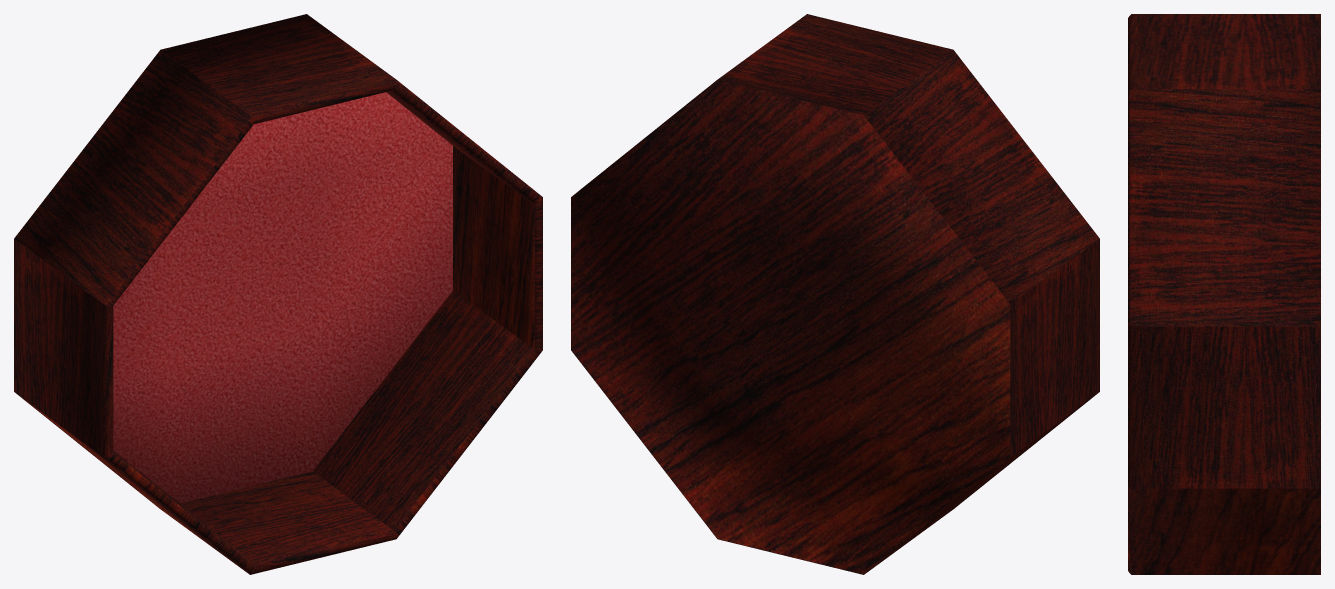
Rendered from piste.glb.
3 views of the same model, side by side, from view 1: azimuth 30°, elevation 25°; view 2: azimuth 150°, elevation 25°; view 3: azimuth 270°, elevation 25° (orthographic). The views are drawn at different scales.
Visible parts, largest first — view 1: base, north_west, south_east, west, north, east, south, south_east001, north_east; view 2: base, north_west, west, north, south_east001; view 3: north_east, east, south_east, north.
Boxes of the visible parts, <box> form: base: <box>113,92,452,503</box>; north_west: <box>14,50,254,306</box>; south_east: <box>313,290,541,537</box>; west: <box>14,239,113,457</box>; north: <box>161,14,396,124</box>; east: <box>453,146,542,350</box>; south: <box>180,471,396,574</box>; south_east001: <box>17,394,254,574</box>; north_east: <box>386,80,542,203</box>; base: <box>571,79,1010,574</box>; north_west: <box>864,50,1099,303</box>; west: <box>1010,239,1099,456</box>; north: <box>718,14,952,115</box>; south_east001: <box>864,394,1096,574</box>; north_east: <box>1128,89,1320,326</box>; east: <box>1128,326,1320,488</box>; south_east: <box>1128,486,1320,574</box>; north: <box>1128,14,1320,91</box>.
Bounding box in the file's own units: 13 × 13 × 4.68.
Materials: 2 (2 with a texture image).
